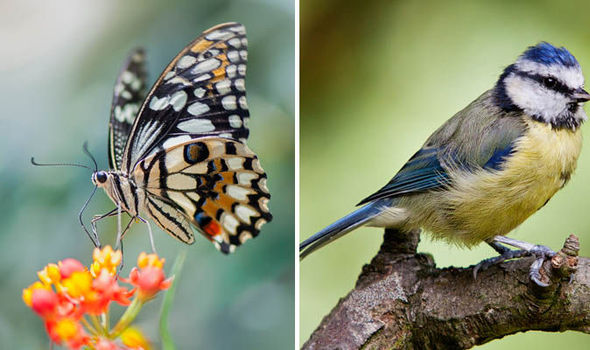kelebek: (15, 29, 274, 271)
